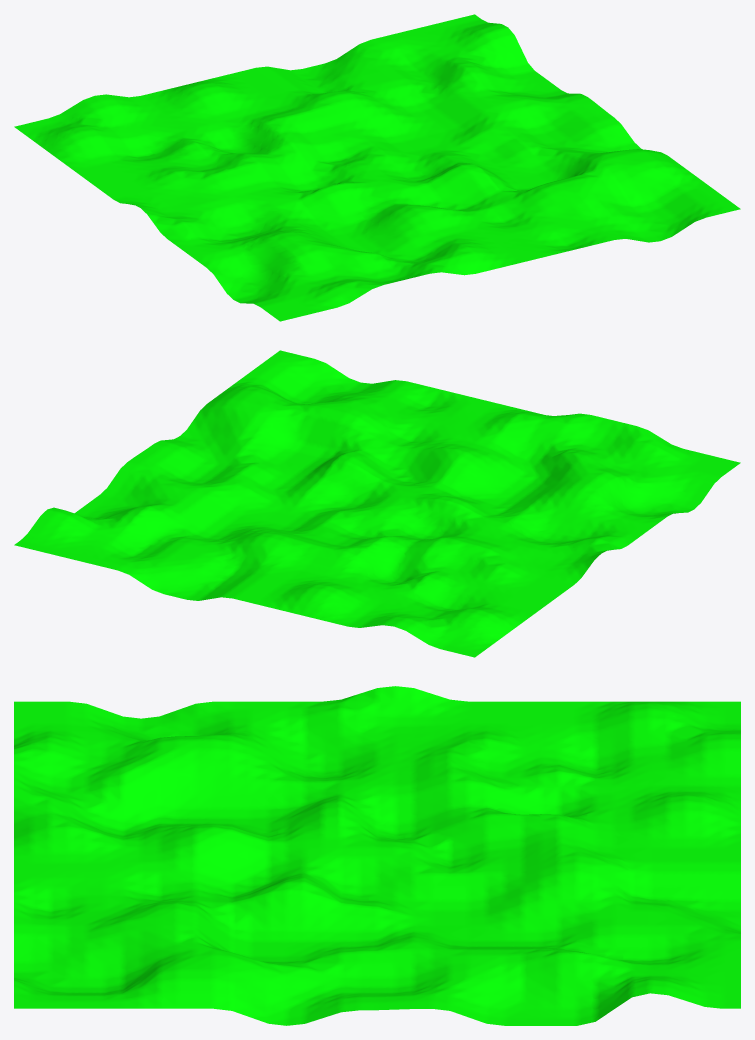
The model's file is Groundd.fbx.
The picture shows the model from 3 angles, top to bottom: view 1: azimuth 30°, elevation 25°; view 2: azimuth 150°, elevation 25°; view 3: azimuth 270°, elevation 25°; orthographic projection. The views are drawn at different scales.
Parts seen in each view (by area): view 1: pPlane1; view 2: pPlane1; view 3: pPlane1.
Boxes of the visible parts, bbox=[...] form: pPlane1: bbox=[14, 14, 740, 321]; pPlane1: bbox=[14, 350, 740, 657]; pPlane1: bbox=[14, 686, 740, 1025].
Size of the model in its own units: 50 by 2.47 by 50.
